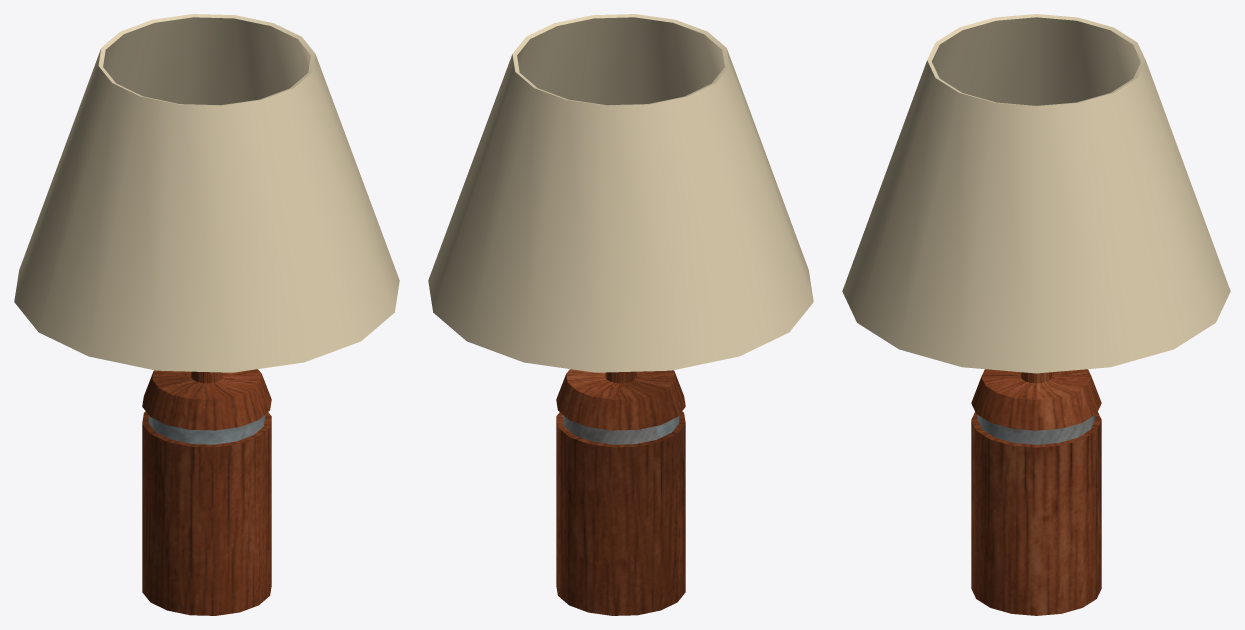
Rendered from lamp.fbx.
3 views of the same model, side by side, from view 1: azimuth 30°, elevation 25°; view 2: azimuth 150°, elevation 25°; view 3: azimuth 270°, elevation 25° (orthographic).
Visible parts, largest first — view 1: lamp; view 2: lamp; view 3: lamp.
Part boxes in pixels (x1,y1,x2,y2): lamp: (14, 14, 399, 615); lamp: (428, 14, 813, 615); lamp: (842, 14, 1230, 615).
Size of the model in its own units: 30.63 by 45.95 by 30.63.
